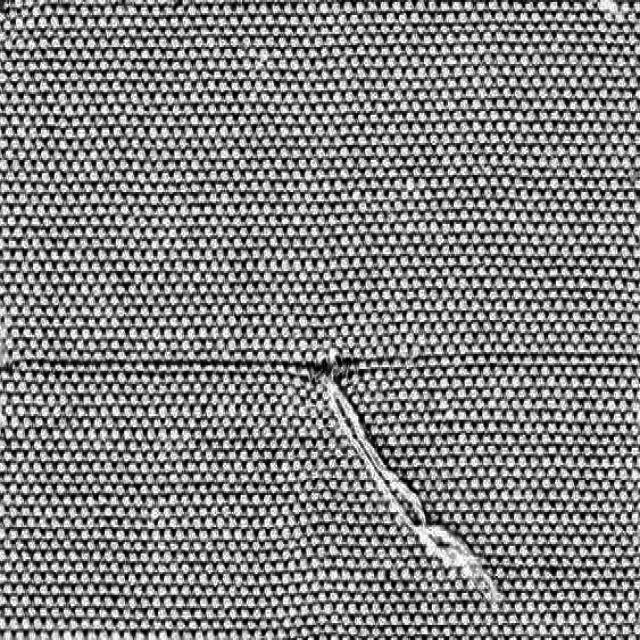Hole: (303, 335, 519, 625)
